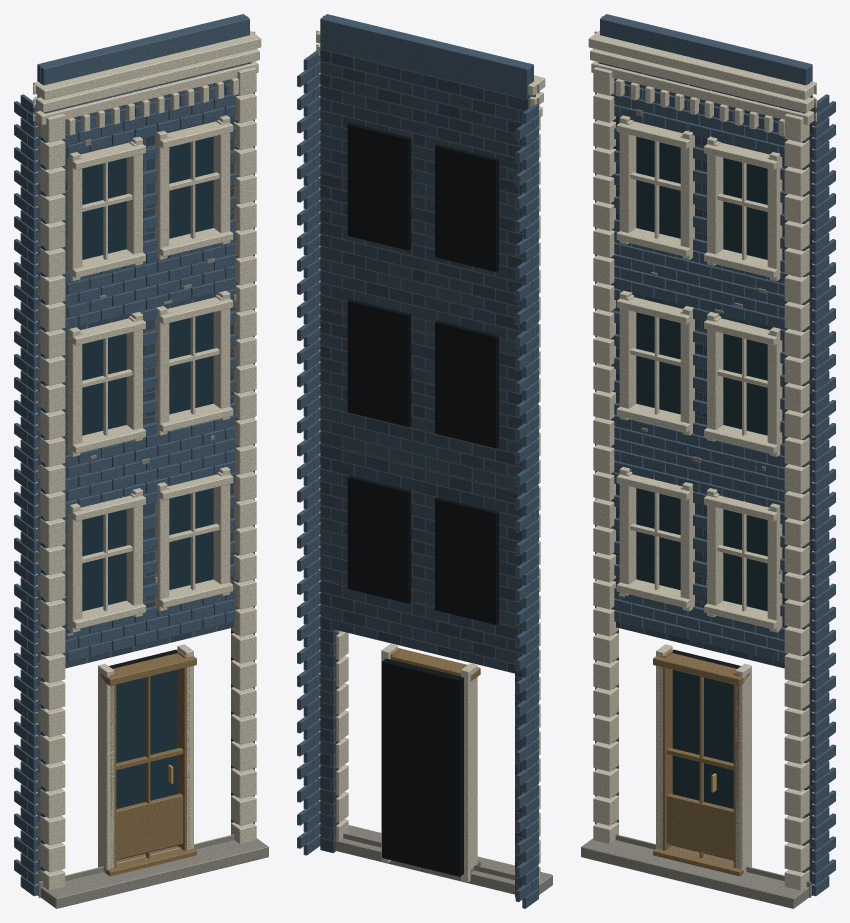
File: OFFC13_lod0.glb
The picture shows the model from 3 angles, left to right: view 1: azimuth 30°, elevation 25°; view 2: azimuth 150°, elevation 25°; view 3: azimuth 330°, elevation 25°; orthographic projection.
Parts seen in each view (by area): view 1: OFFC13_FRONT_LOD0; view 2: OFFC13_FRONT_LOD0; view 3: OFFC13_FRONT_LOD0.
Part boxes in pixels (left/top/right/bottom): OFFC13_FRONT_LOD0: left=14, top=14, right=268, bottom=908; OFFC13_FRONT_LOD0: left=297, top=14, right=552, bottom=908; OFFC13_FRONT_LOD0: left=581, top=14, right=835, bottom=908.
Size of the model in its own units: 3.44 by 12.26 by 1.02.
Materials: 11 (8 with a texture image).
